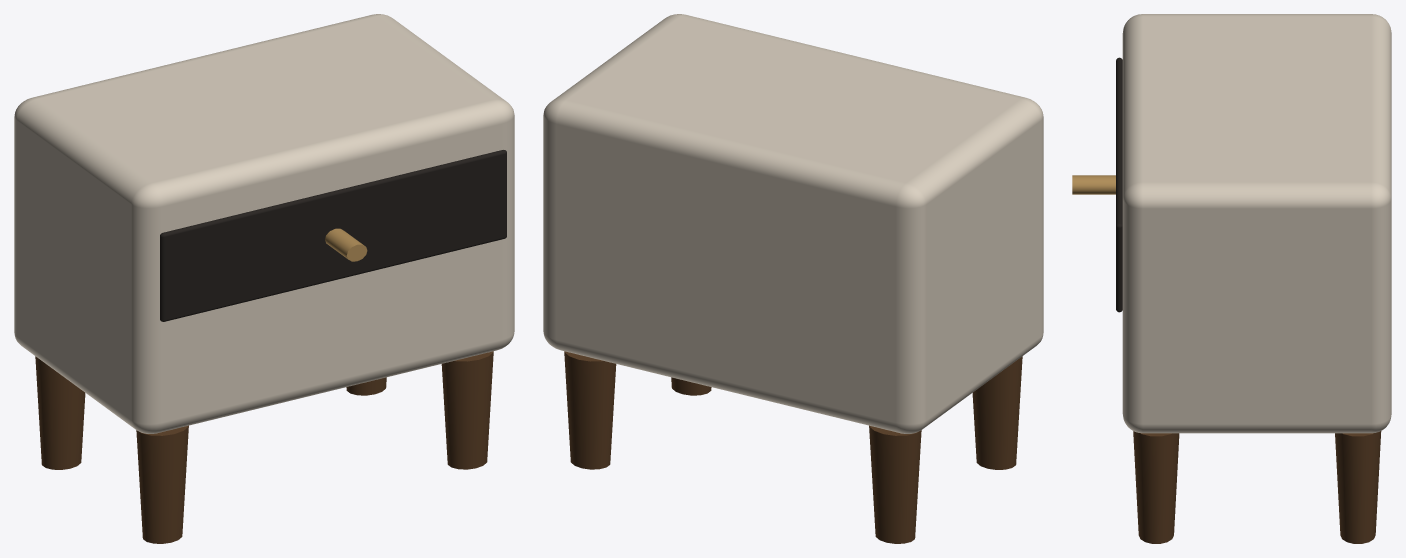
The model's file is bedside.glb.
3 renders of one model, left to right at view 1: azimuth 30°, elevation 25°; view 2: azimuth 150°, elevation 25°; view 3: azimuth 270°, elevation 25°, orthographic.
Bounding box in the file's own units: 0.55 × 0.5 × 0.4.
